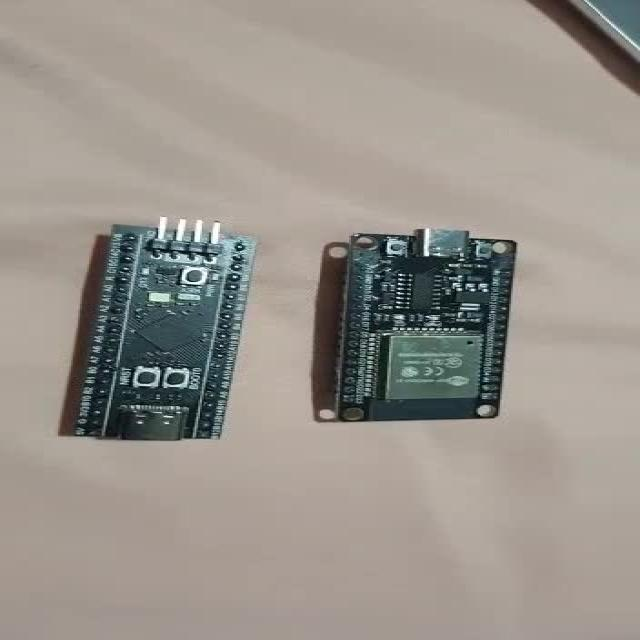ESP32: (331, 229, 517, 422)
STM32: (65, 219, 255, 441)
